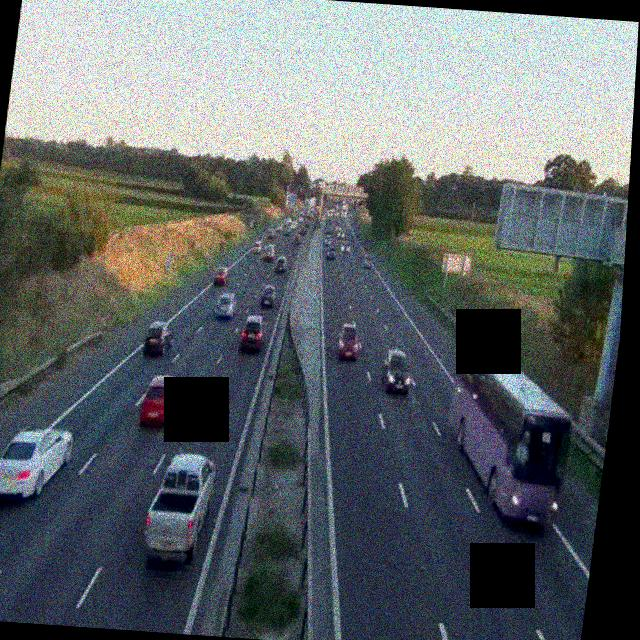bus: (436, 342, 581, 524)
car: (141, 451, 217, 564), (0, 424, 73, 502), (138, 372, 183, 427), (379, 346, 415, 394), (142, 319, 174, 357), (238, 314, 267, 354), (335, 321, 362, 360), (214, 289, 237, 319), (258, 284, 276, 309), (213, 266, 229, 286), (261, 242, 275, 262), (274, 254, 288, 273), (325, 244, 337, 260), (250, 240, 262, 256), (361, 254, 372, 270), (340, 239, 350, 253), (291, 232, 301, 245), (295, 225, 305, 238)
